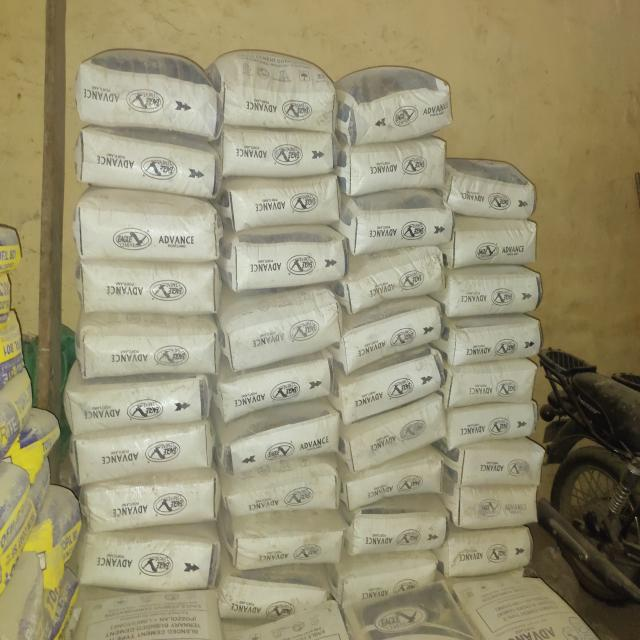Cement: (80, 51, 217, 123), (341, 70, 452, 142), (221, 61, 332, 132), (79, 133, 214, 189), (81, 204, 216, 259), (85, 537, 208, 586), (90, 477, 213, 526), (82, 325, 208, 369), (84, 427, 211, 470), (79, 380, 206, 423), (86, 266, 212, 309), (222, 132, 338, 178), (231, 178, 347, 224), (231, 243, 347, 289), (229, 306, 345, 352), (225, 367, 341, 413), (238, 418, 354, 464), (238, 460, 354, 506), (236, 517, 352, 563), (226, 571, 342, 617), (349, 140, 450, 191), (446, 316, 543, 362), (446, 169, 535, 219), (450, 219, 539, 269), (452, 364, 539, 410), (449, 404, 536, 450), (460, 443, 547, 489), (455, 484, 542, 530), (450, 531, 537, 577), (349, 555, 436, 601), (361, 500, 448, 546), (358, 459, 445, 505), (358, 411, 445, 457), (347, 359, 434, 405), (343, 315, 430, 361), (357, 257, 444, 303), (356, 199, 443, 245), (450, 269, 539, 311)
